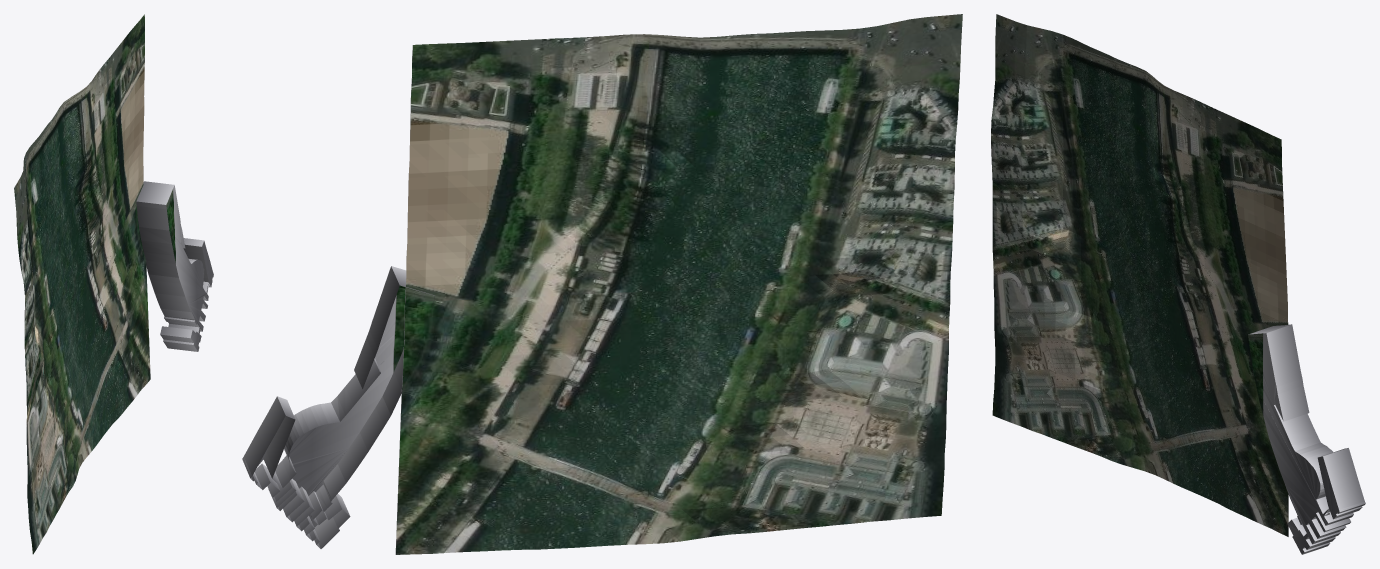
3 renders of one model, left to right at view 1: azimuth 30°, elevation 25°; view 2: azimuth 150°, elevation 25°; view 3: azimuth 270°, elevation 25°, orthographic. The views are drawn at different scales.
Size of the model in its own units: 412 by 415 by 348.
Materials: 1 (1 with a texture image).
